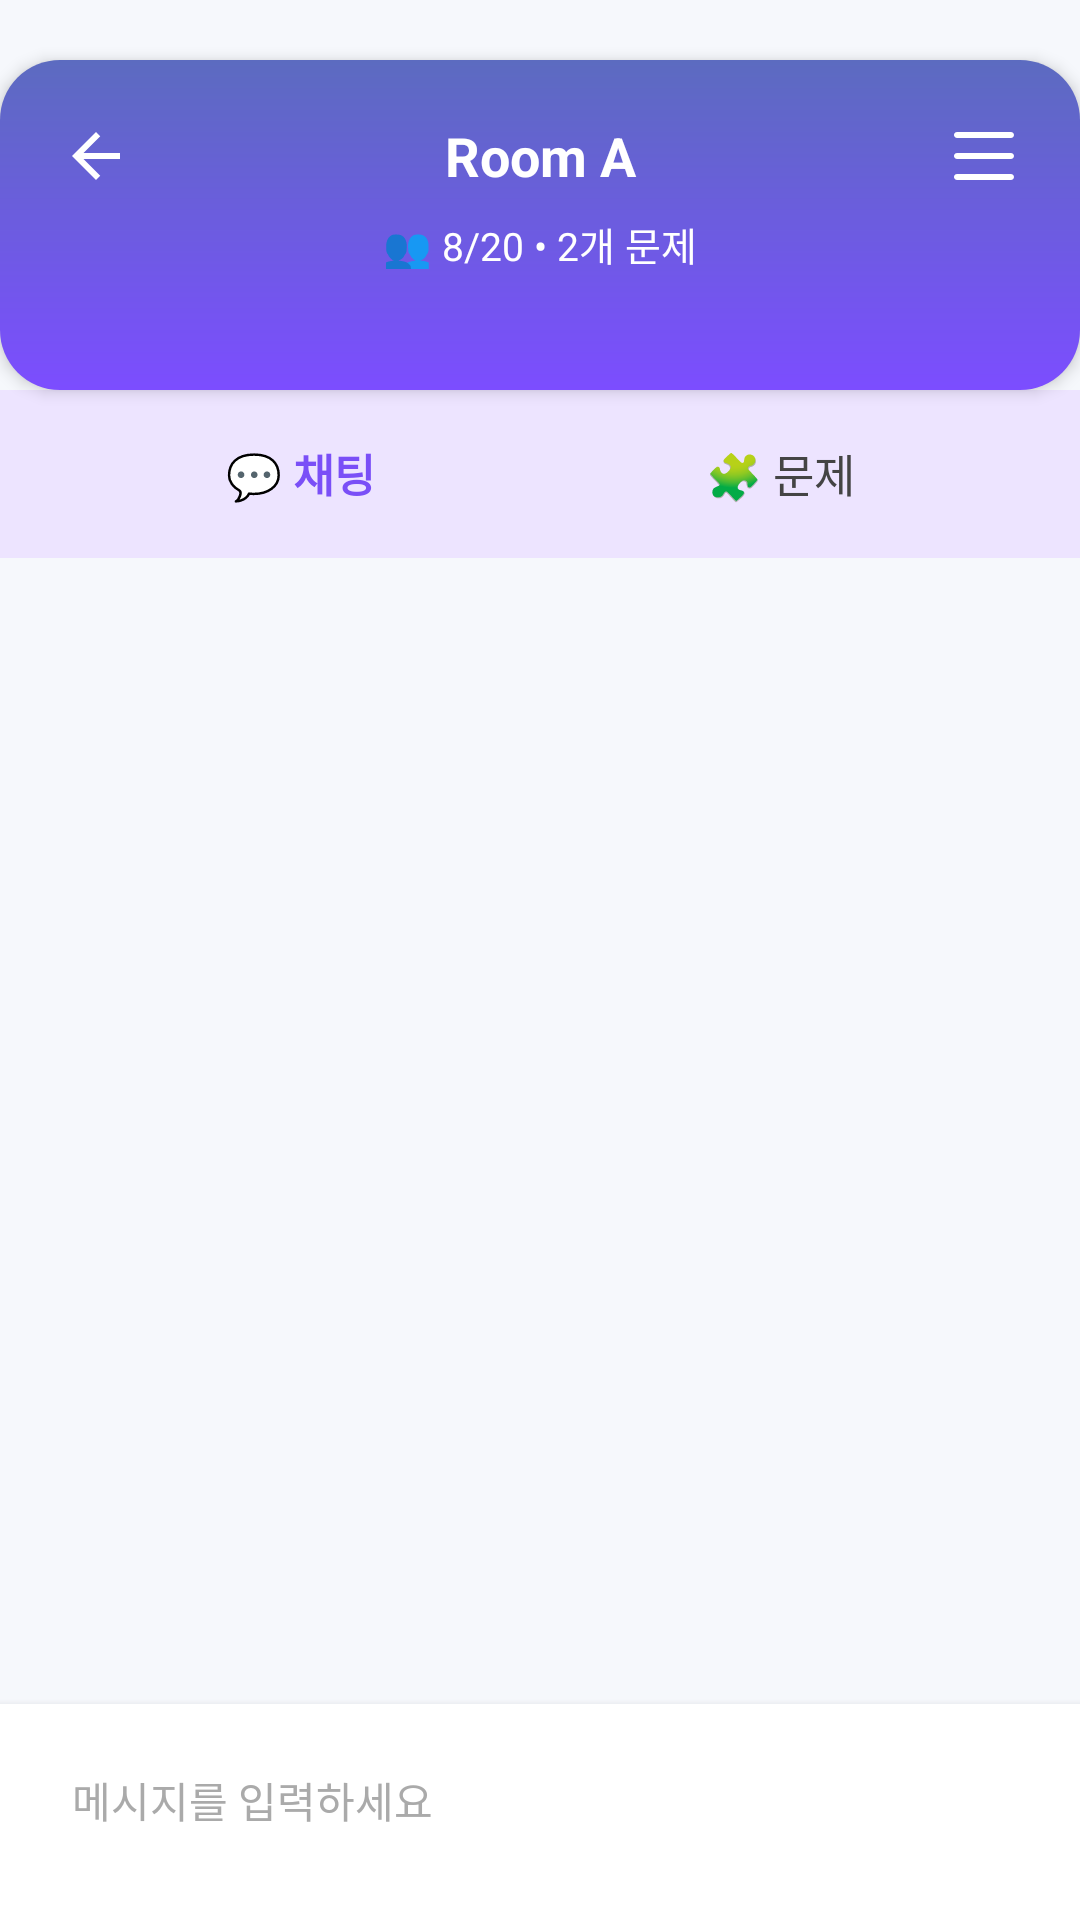

Icon bounding boxes for this 1080px×1920px phone screenshot, format (x1, y1, x2, y2):
뒤로가기: (48, 132, 144, 204)
메뉴: (936, 132, 1032, 204)
